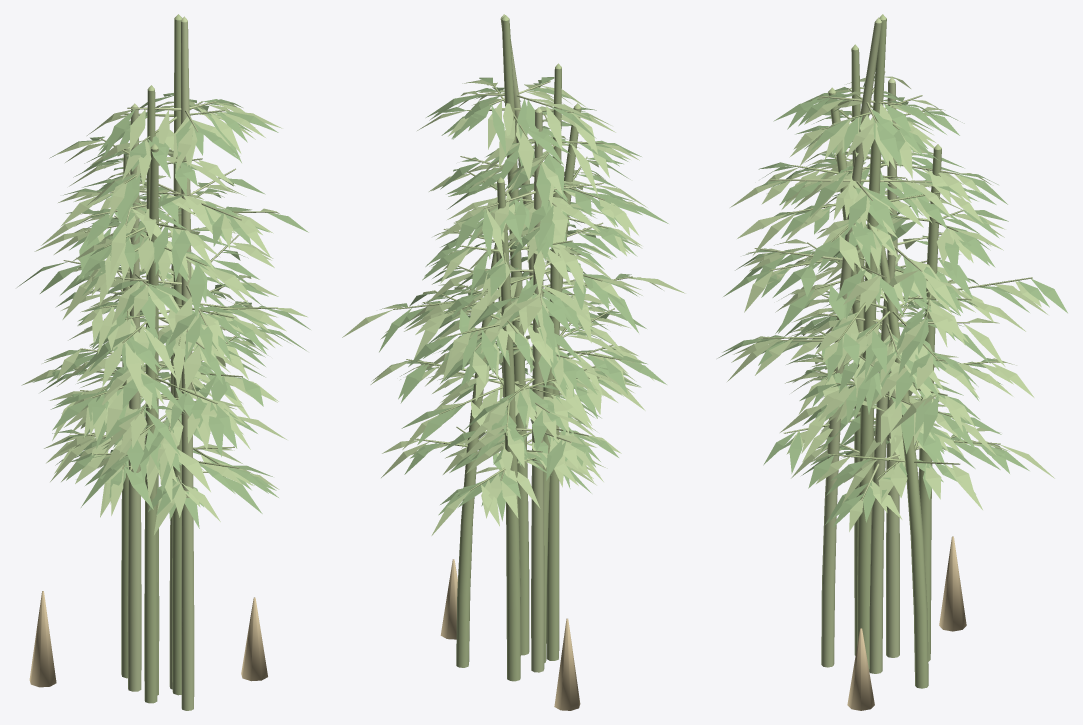
Rendered from bamboo.glb.
3 renders of one model, left to right at view 1: azimuth 30°, elevation 25°; view 2: azimuth 150°, elevation 25°; view 3: azimuth 270°, elevation 25°, orthographic. The views are drawn at different scales.
Parts seen in each view (by area): view 1: bambooClump; view 2: bambooClump; view 3: bambooClump.
Boxes of the visible parts, left/top/right/bottom form: bambooClump: left=17, top=14, right=310, bottom=710; bambooClump: left=342, top=14, right=685, bottom=710; bambooClump: left=717, top=14, right=1067, bottom=710.
Bounding box in the file's own units: 1.22 × 2.9 × 1.41.
